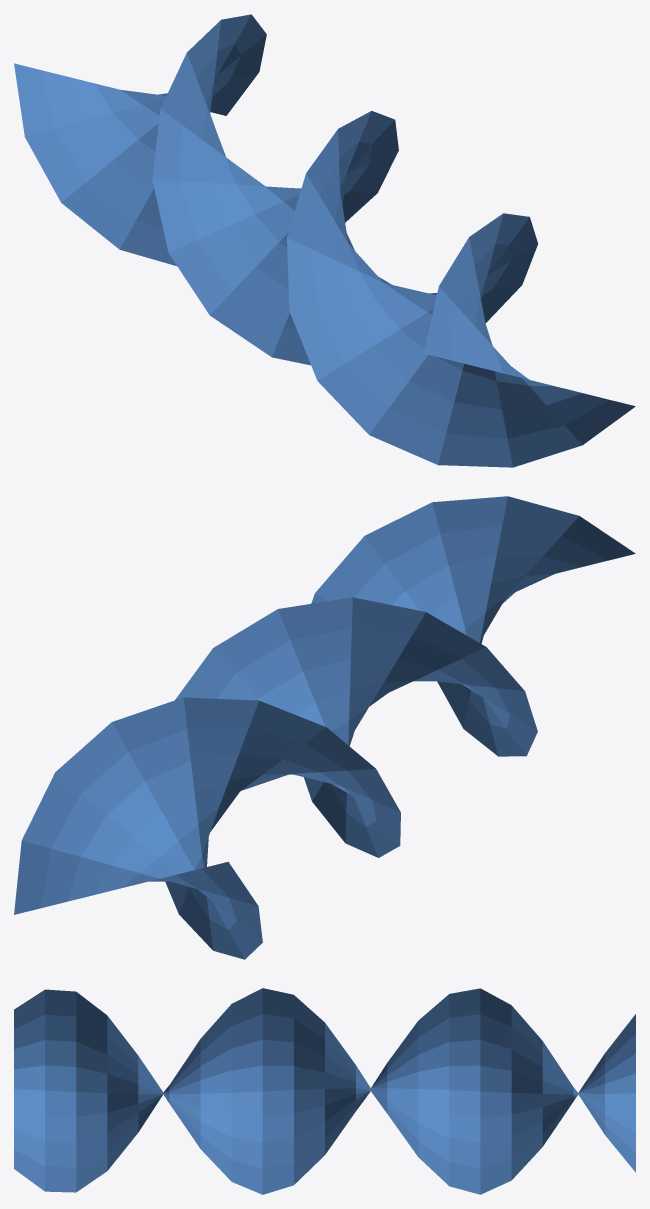
The model's file is helix.dae.
The picture shows the model from 3 angles, top to bottom: view 1: azimuth 30°, elevation 25°; view 2: azimuth 150°, elevation 25°; view 3: azimuth 270°, elevation 25°; orthographic projection. The views are drawn at different scales.
Visible parts, largest first — view 1: Cube; view 2: Cube; view 3: Cube.
Boxes of the visible parts, x1,y1,x2,y2 form: Cube: [14, 14, 635, 467]; Cube: [14, 496, 635, 959]; Cube: [14, 988, 635, 1194].
Bounding box in the file's own units: 99.95 × 99.95 × 300.
